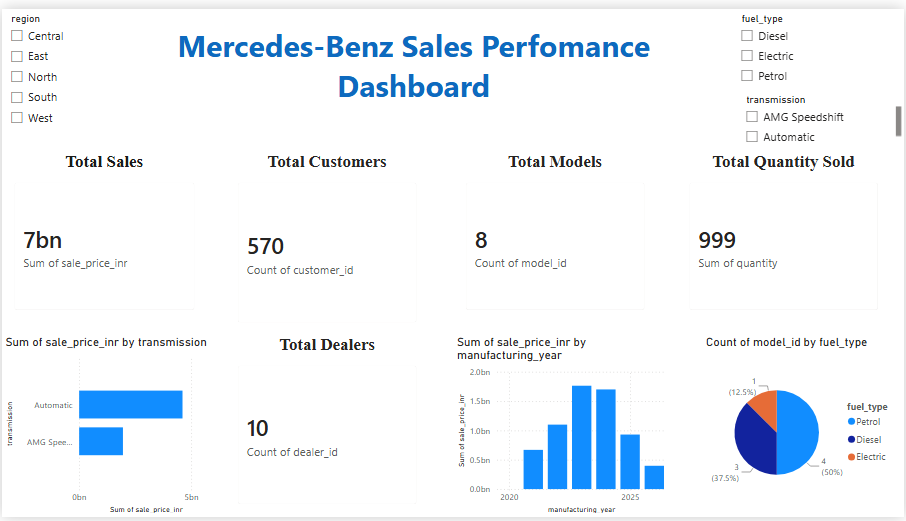

This screenshot's page, from the dashboard's own definition file:
{"tool":"powerbi","page":{"name":"Sales Performance Dashboard","canvas":[1280,720],"ordinal":0},"visuals":[{"type":"cardVisual","title":"Total Sales","fields":{"Data":["Sum(gold_fact_sales.sale_price_inr)"]},"box":[0,202,290,242],"z":0},{"type":"cardVisual","title":"Total Quantity Sold","fields":{"Data":["Sum(gold_fact_sales.quantity)"]},"box":[958,202,302,242],"z":1000},{"type":"cardVisual","title":"Total Customers","fields":{"Data":["Count(gold_fact_sales.customer_id)"]},"box":[316,202,288,260],"z":2000},{"type":"cardVisual","title":"Total Dealers","fields":{"Data":["Count(gold_fact_sales.dealer_id)"]},"box":[318,462,288,258],"z":3000},{"type":"cardVisual","title":"Total Models","fields":{"Data":["Count(gold_fact_sales.model_id)"]},"box":[640,202,288,242],"z":4000},{"type":"clusteredColumnChart","fields":{"Category":["gold_fact_sales.manufacturing_year"],"Y":["Sum(gold_fact_sales.sale_price_inr)"]},"box":[640,462,306,258],"z":5000},{"type":"clusteredBarChart","fields":{"Category":["gold_fact_sales.transmission"],"Y":["Sum(gold_fact_sales.sale_price_inr)"]},"box":[0,462,316,258],"z":6000},{"type":"pieChart","fields":{"Category":["gold_dim_model.fuel_type"],"Y":["Count(gold_dim_model.model_id)"]},"box":[994,462,286,258],"z":7000},{"type":"textbox","box":[132,16,904,140],"z":8000},{"type":"slicer","fields":{"Values":["gold_dim_model.fuel_type"]},"box":[1036,0,244,114],"z":9000},{"type":"slicer","fields":{"Values":["gold_fact_sales.transmission"]},"box":[1042,114,238,82],"z":9001},{"type":"slicer","fields":{"Values":["gold_dim_dealer.region"]},"box":[0,0,132,176],"z":9002}]}

Visuals, with their boxes in screenshot pixels (x1, y1, x2, y2), scaled from the page's 1280x720 canvas onto the 906x521 screenshot:
"Total Sales" cardVisual: 0 146 205 321
"Total Quantity Sold" cardVisual: 678 146 892 321
"Total Customers" cardVisual: 224 146 428 334
"Total Dealers" cardVisual: 225 334 429 520
"Total Models" cardVisual: 453 146 657 321
clusteredColumnChart - gold_fact_sales.manufacturing_year x Sum(gold_fact_sales.sale_price_inr): 453 334 670 520
clusteredBarChart - gold_fact_sales.transmission x Sum(gold_fact_sales.sale_price_inr): 0 334 224 520
pieChart - gold_dim_model.fuel_type x Count(gold_dim_model.model_id): 704 334 905 520
textbox: 93 12 733 113
slicer - gold_dim_model.fuel_type: 733 0 905 82
slicer - gold_fact_sales.transmission: 738 82 905 142
slicer - gold_dim_dealer.region: 0 0 93 127
